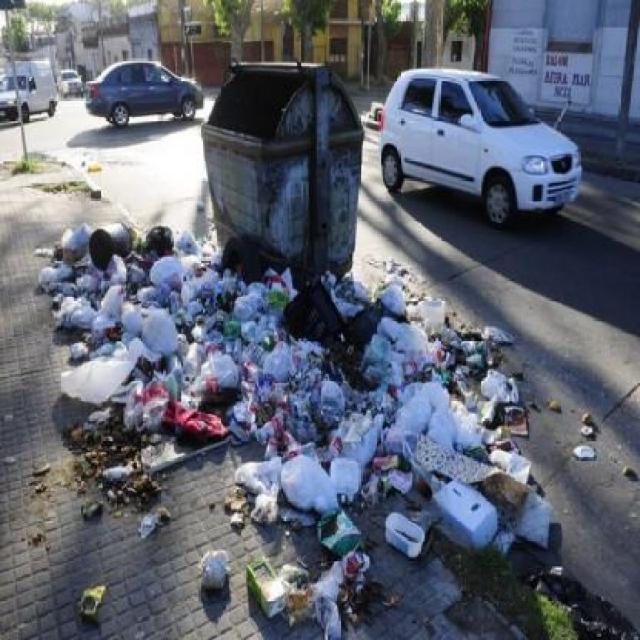garbage: (39, 261, 473, 636), (475, 320, 562, 601), (566, 386, 634, 522), (62, 213, 216, 272), (72, 140, 104, 195)
